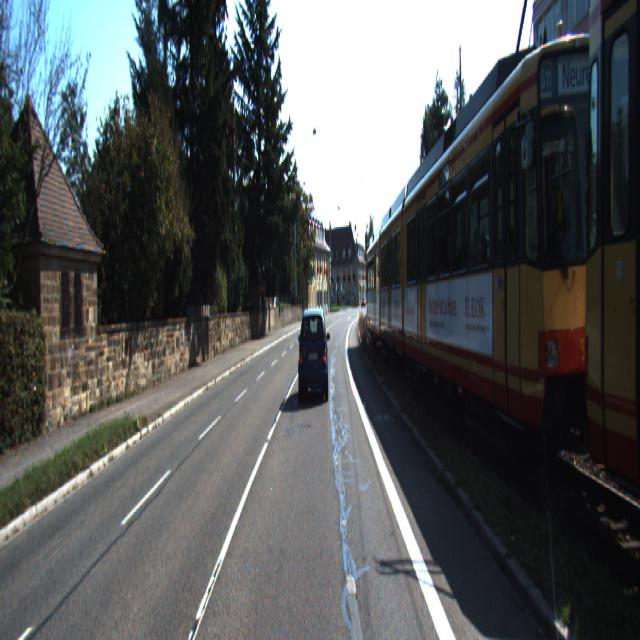Car: (401, 0, 639, 512), (584, 0, 639, 599), (378, 186, 439, 377), (366, 219, 405, 354), (299, 304, 330, 404)
